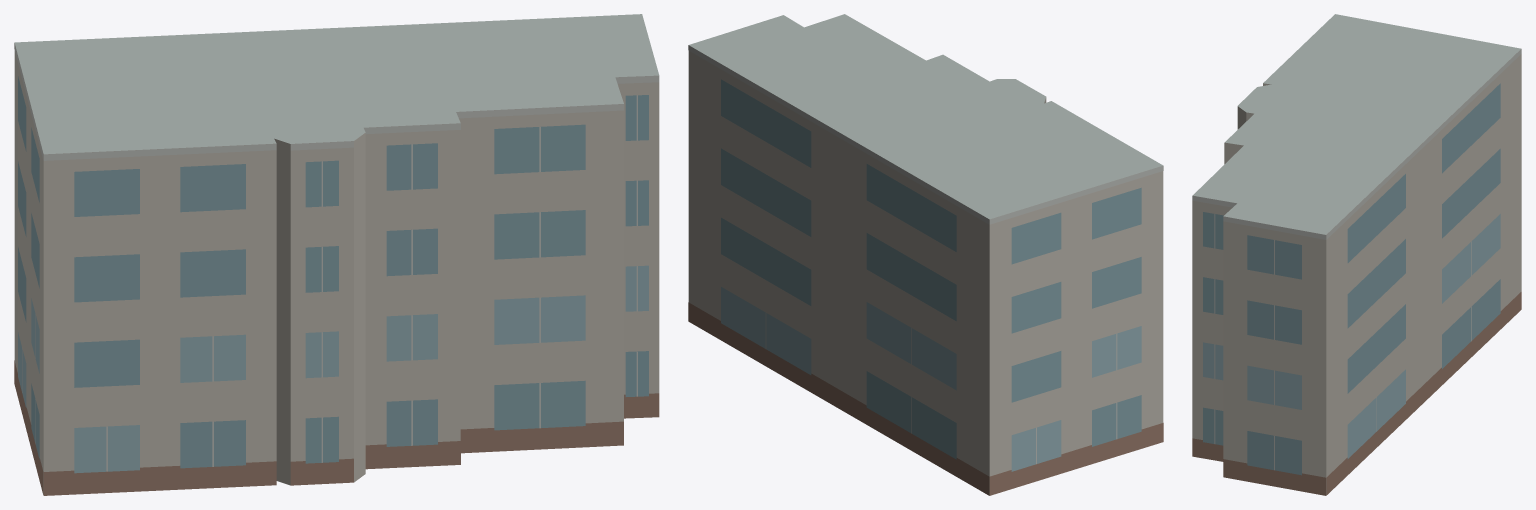
Rendered from survey-upis-32620214.glb.
3 views of the same model, side by side, from view 1: azimuth 30°, elevation 25°; view 2: azimuth 150°, elevation 25°; view 3: azimuth 270°, elevation 25° (orthographic). The views are drawn at different scales.
Parts seen in each view (by area): view 1: survey-upis-32620214.tmp; view 2: survey-upis-32620214.tmp; view 3: survey-upis-32620214.tmp.
Boxes of the visible parts, x1,y1,x2,y2 form: survey-upis-32620214.tmp: [14, 14, 659, 495]; survey-upis-32620214.tmp: [688, 14, 1163, 495]; survey-upis-32620214.tmp: [1192, 14, 1521, 495].
Bounding box in the file's own units: 22.89 × 12.6 × 14.41.
